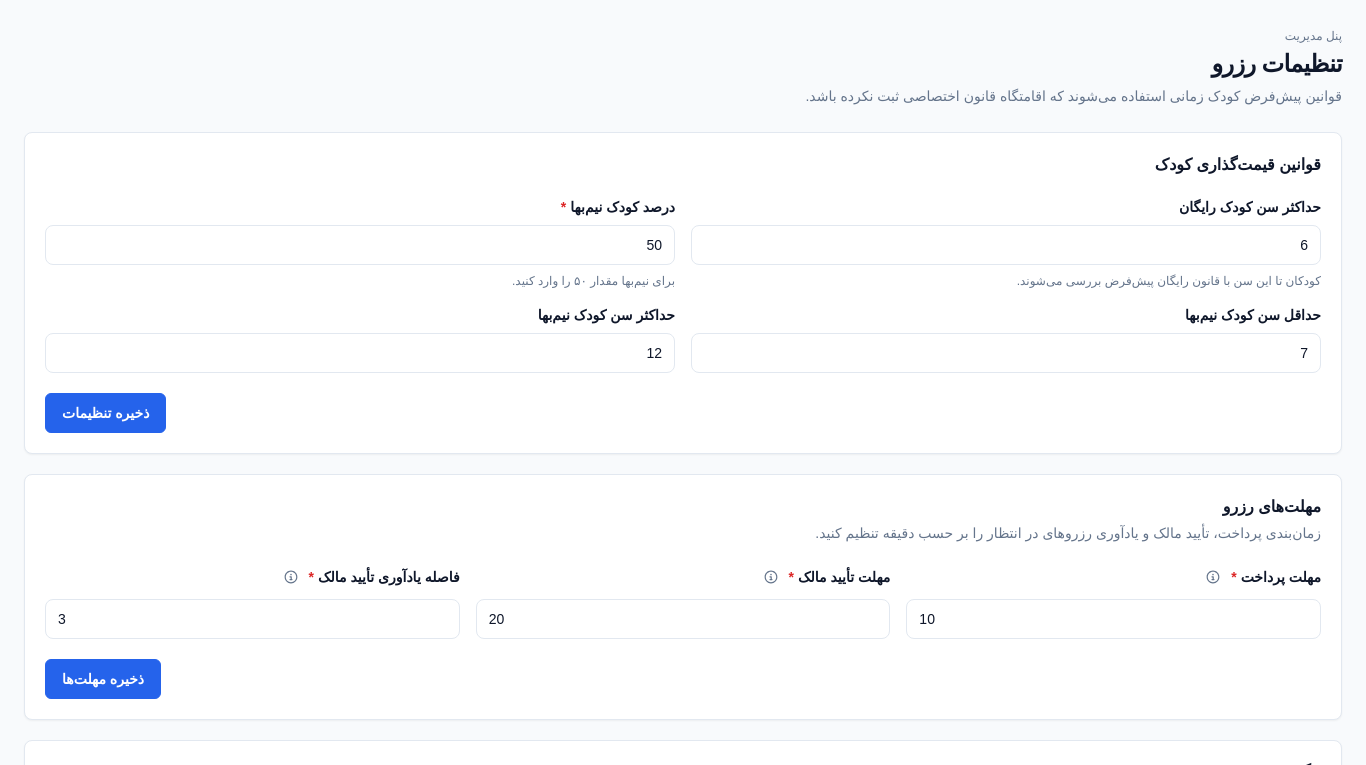
Admin Reservation Settings › rejects invalid deadline value 0 near the field
Expected: the heading "مهلت‌های رزرو" is shown, x1=1223 y1=498 x2=1321 y2=515
Replace the text in the number field labelled "مهلت پرداخت*" with "0" at [1114, 619], box x1=906 y1=599 x2=1321 y2=639
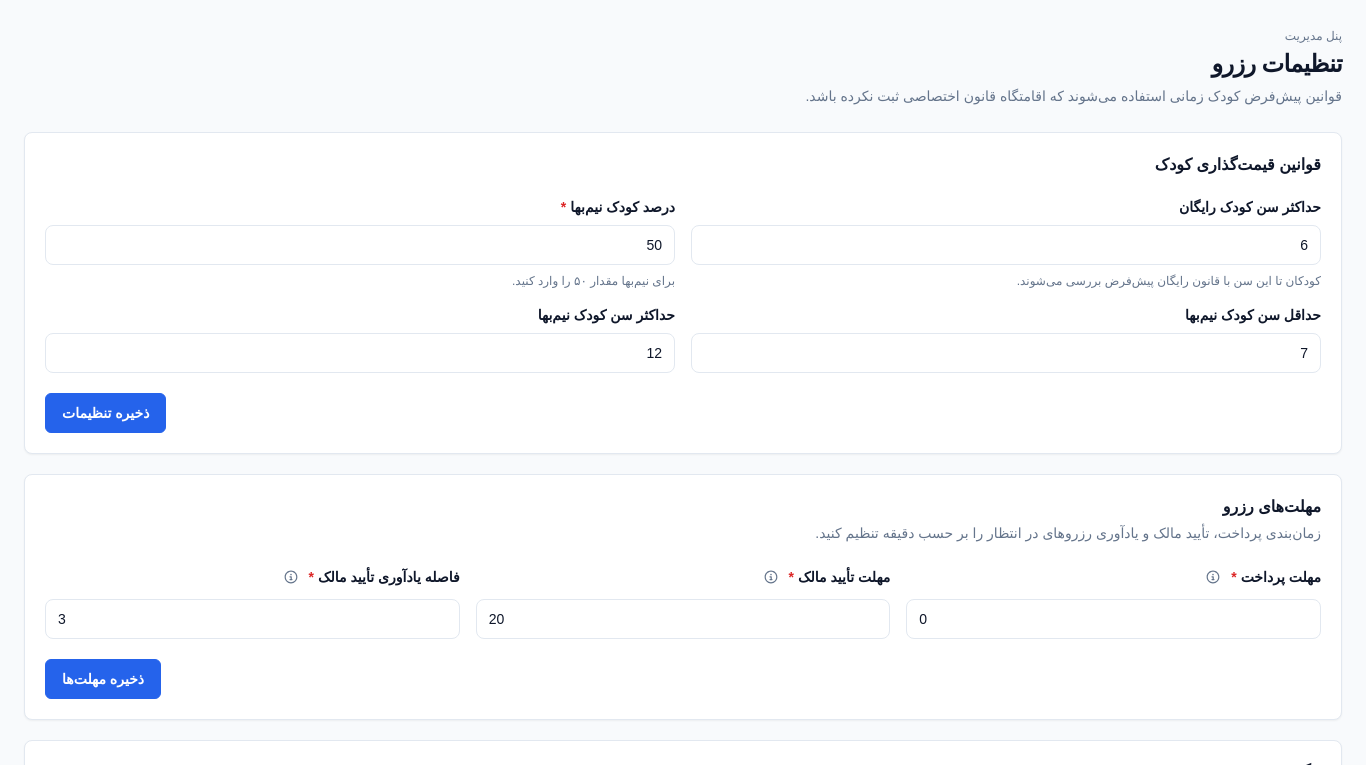
Submit the form named "ذخیره مهلت‌ها", box x1=45 y1=495 x2=1321 y2=699
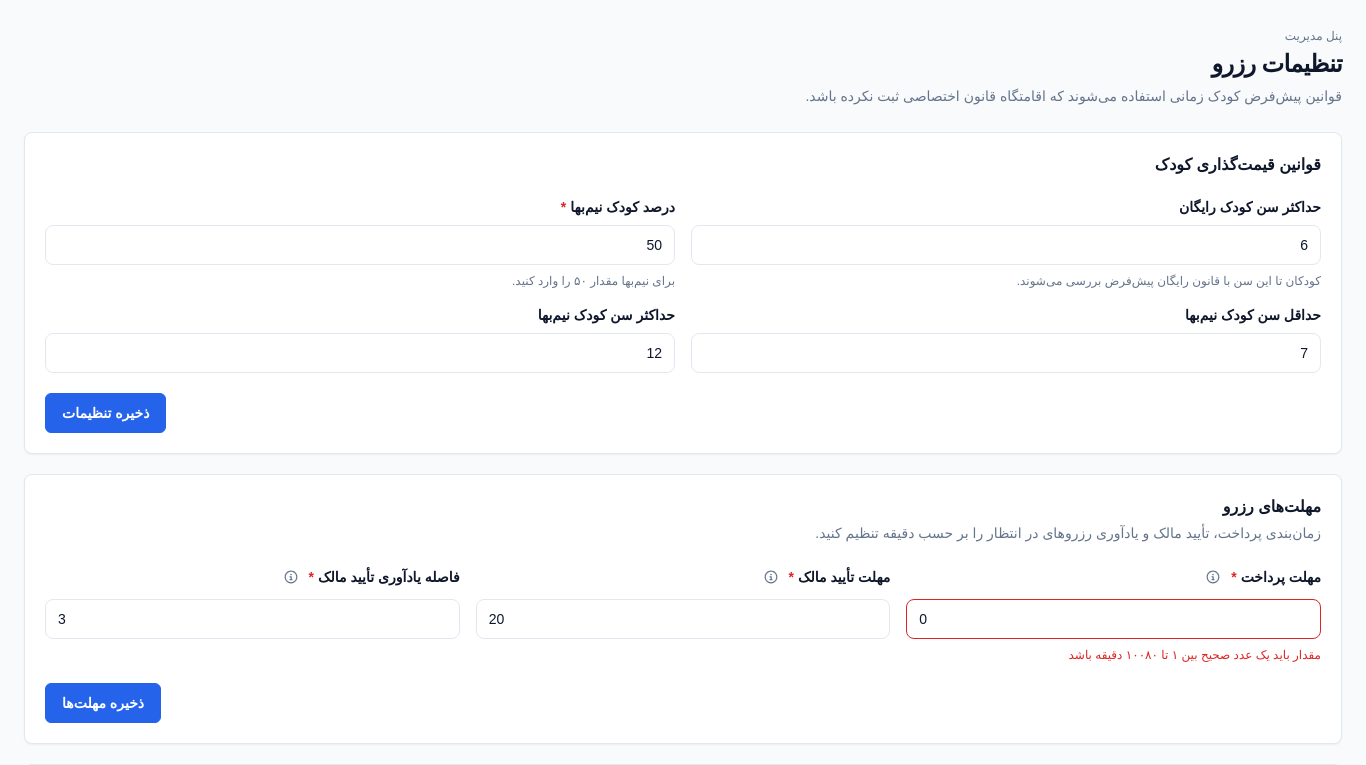
Now the text "مقدار باید یک عدد صحیح بین ۱ تا ۱۰۰۸۰ دقیقه باشد" is shown, box x1=1068 y1=648 x2=1321 y2=662
